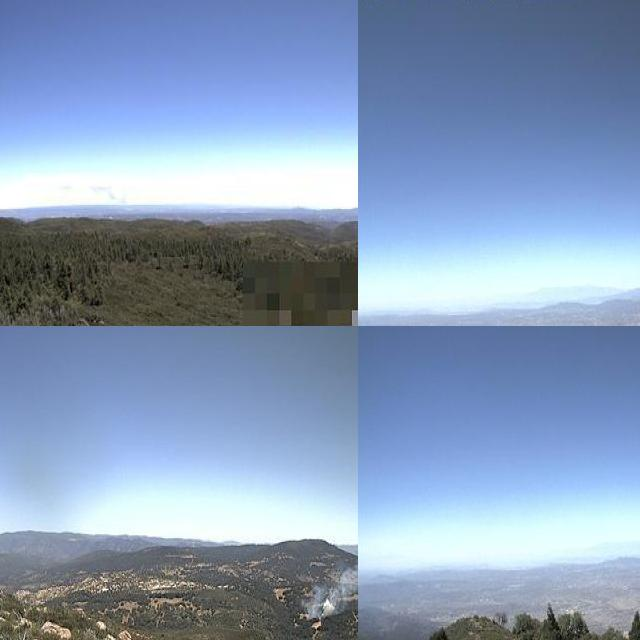smoke: (302, 549, 358, 627), (88, 180, 125, 203)
